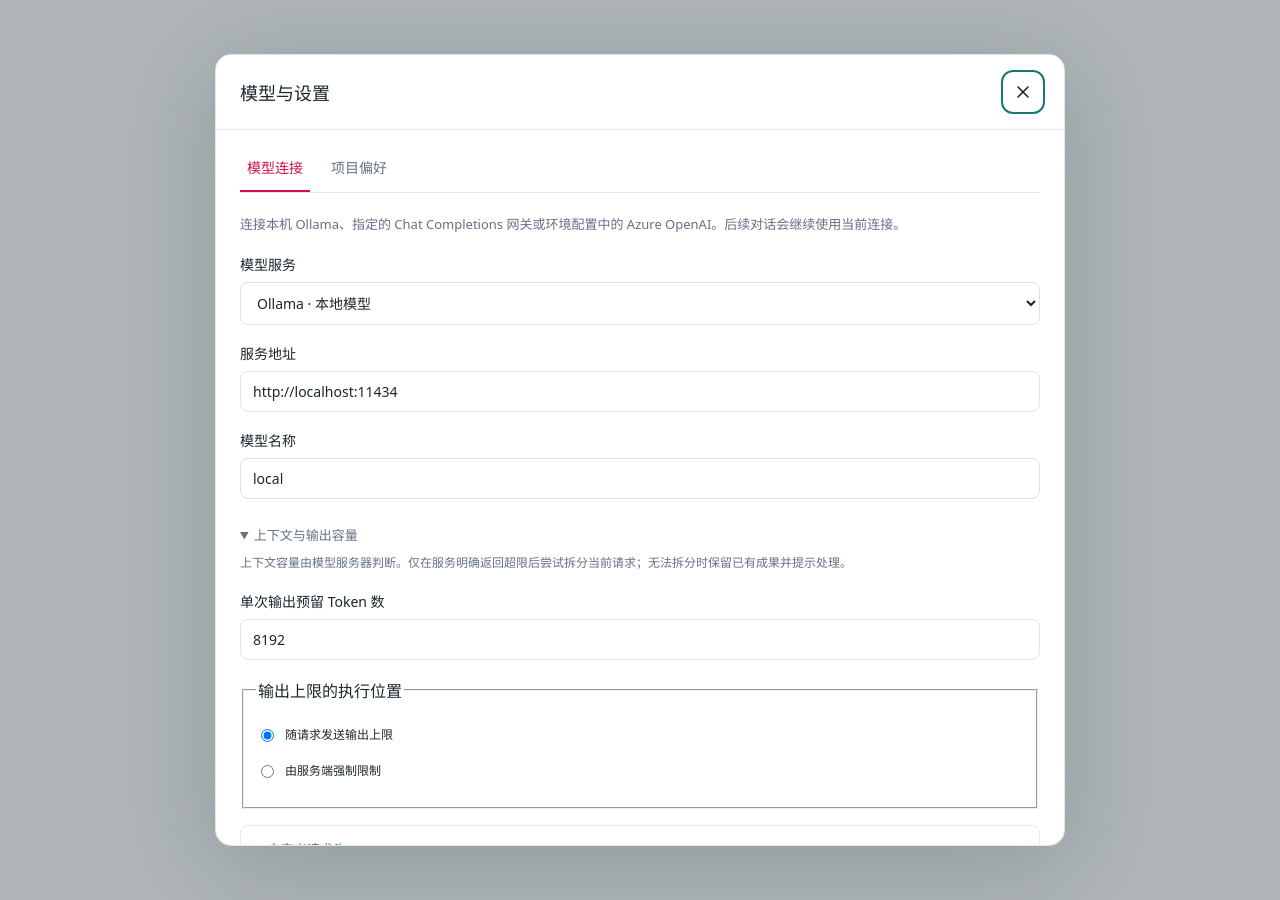
Test: switching to private gateway seeds documented endpoint and displays actual timeout
The width and height of the screenshot is (1280, 900).
Select "Chat Completions · 私有网关" in the dropdown labelled "模型服务" at coordinates (640, 303), box [240,282,1040,325]
(page scrolled)
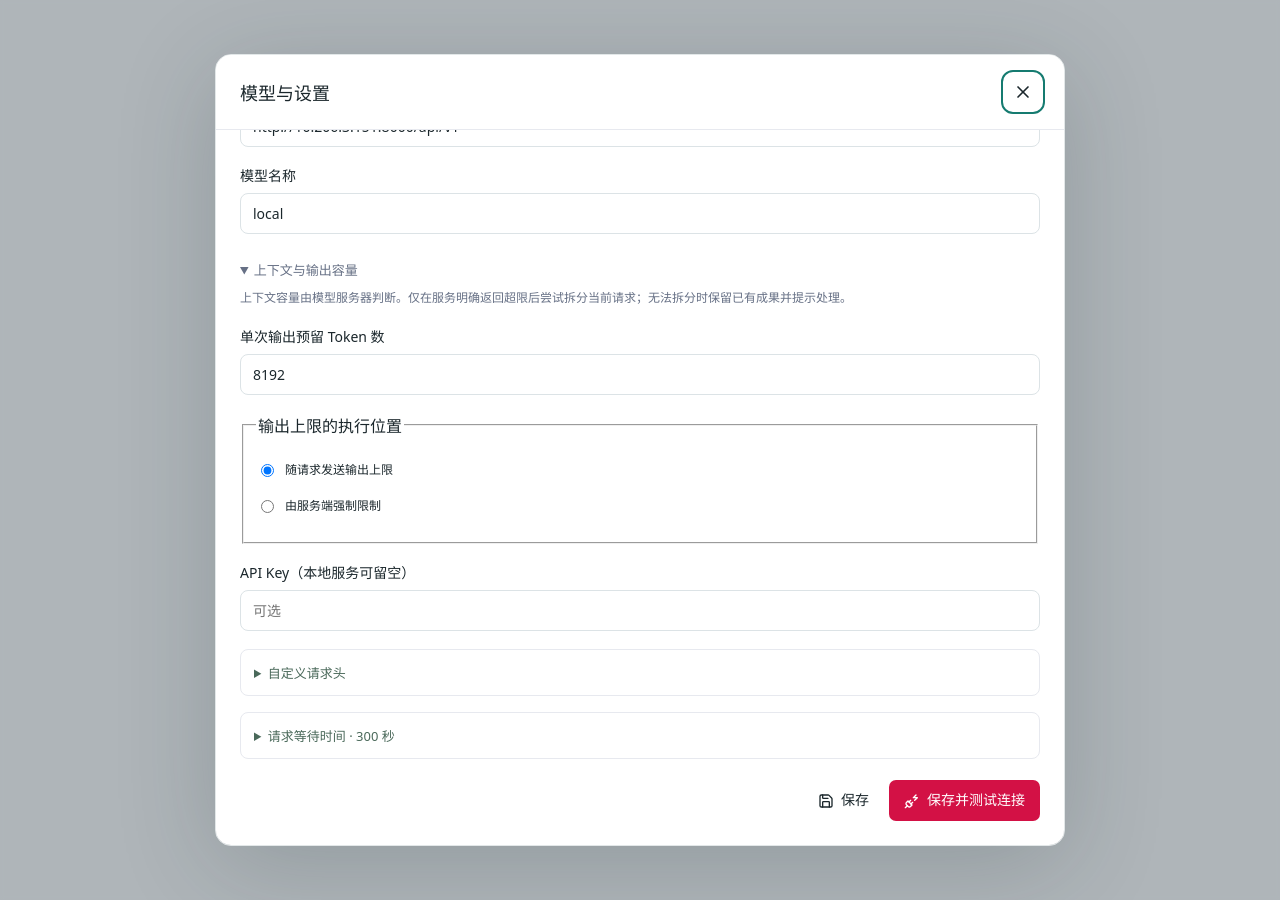
Check: the heading "请求等待时间 · 300 秒" is shown, box [268,727,395,745]
